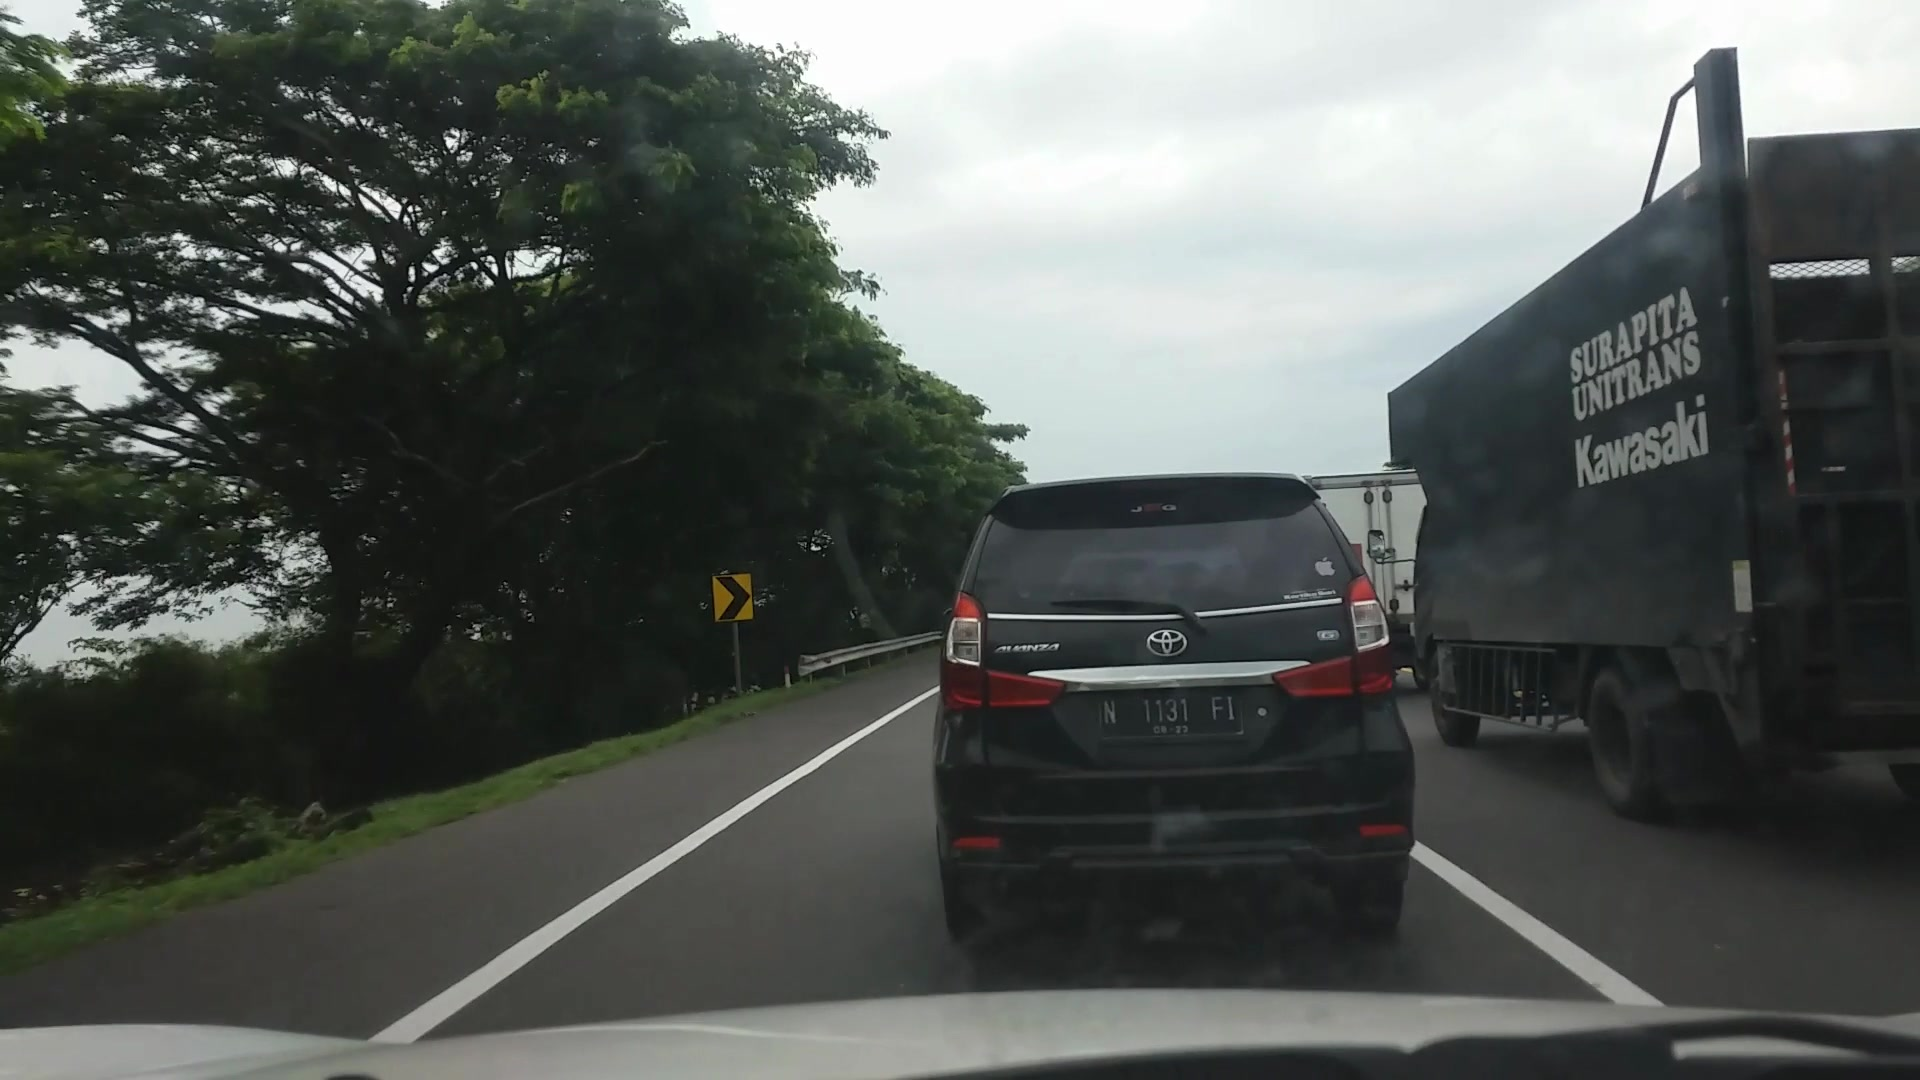plate_positive: (1098, 691, 1242, 736)
